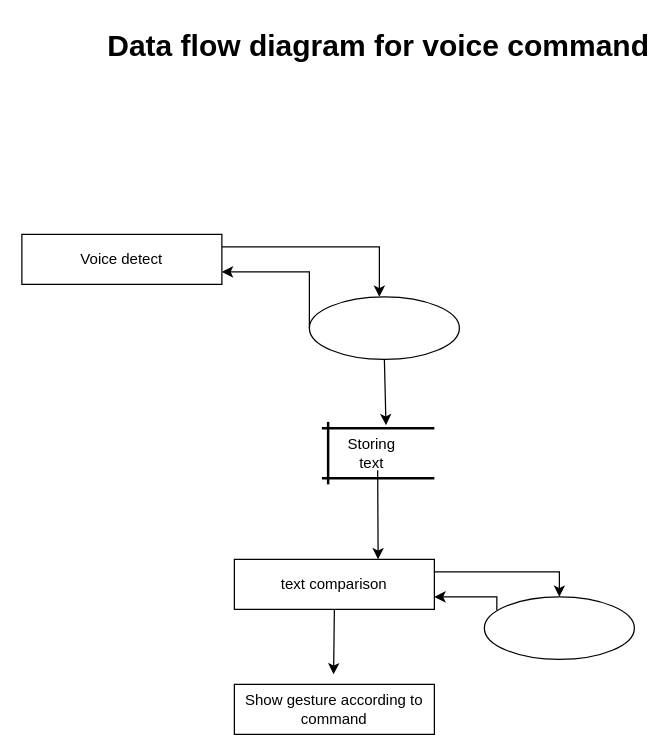
Image size: 670x756. Some labels were removed from this diagram. The shapes that lost their labels are listed below. From the top down, each one's box as (x1, y1, x2, y2) in pixels, then its label:
(308, 296, 459, 359): Turning voice to text
(483, 596, 634, 659): Comparing text with given string
